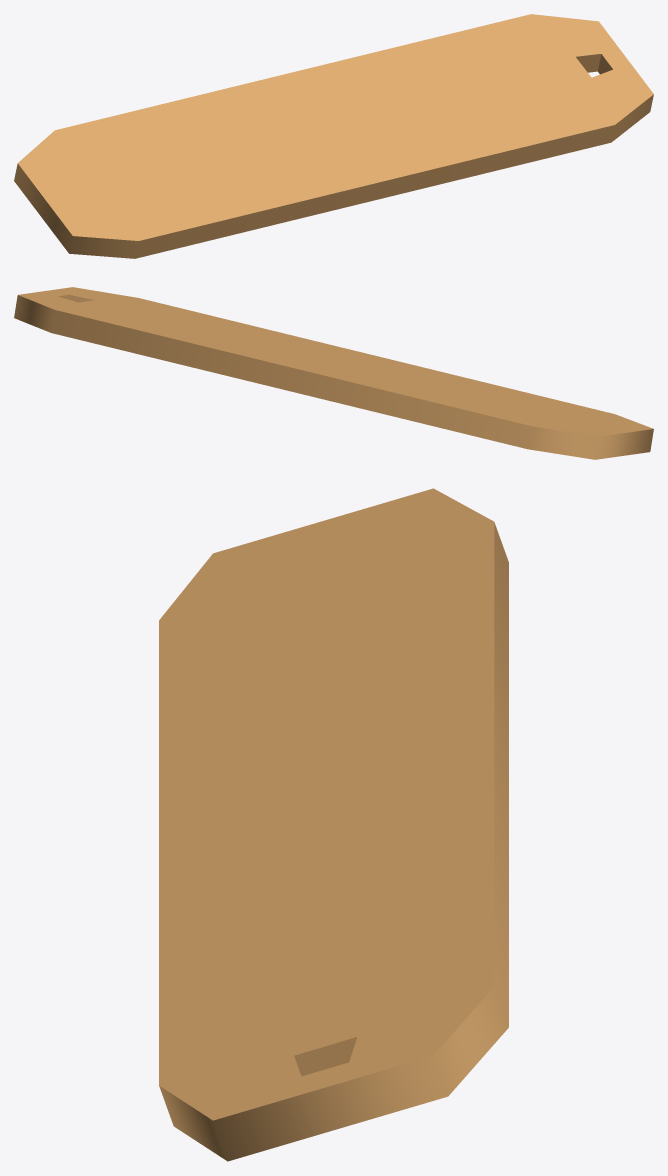
Rendered from SM_PadLockKey_Tail.fbx.
The picture shows the model from 3 angles, top to bottom: view 1: azimuth 30°, elevation 25°; view 2: azimuth 150°, elevation 25°; view 3: azimuth 270°, elevation 25°; orthographic projection. The views are drawn at different scales.
Visible parts, largest first — view 1: SM_PadLockKey_Tail; view 2: SM_PadLockKey_Tail; view 3: SM_PadLockKey_Tail.
Boxes of the visible parts, bbox=[...] form: SM_PadLockKey_Tail: bbox=[14, 14, 653, 258]; SM_PadLockKey_Tail: bbox=[14, 287, 653, 459]; SM_PadLockKey_Tail: bbox=[159, 488, 508, 1161].
Size of the model in its own units: 24.01 by 2.76 by 6.26.
